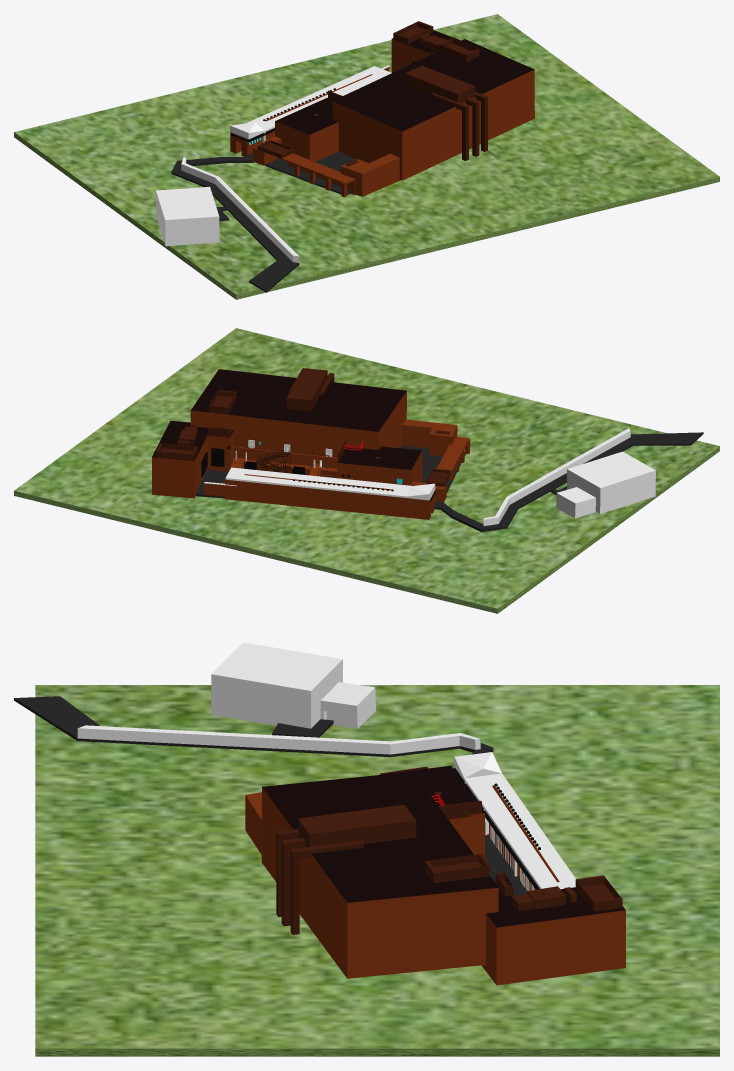
Rendered from Legorretafinal2.obj.
3 views of the same model, one above another, from view 1: azimuth 30°, elevation 25°; view 2: azimuth 150°, elevation 25°; view 3: azimuth 270°, elevation 25° (orthographic). The views are drawn at different scales.
Parts seen in each view (by area): view 1: Object.1; view 2: Object.1; view 3: Object.1, Object.4.
Boxes of the visible parts, <box> form: Object.1: <box>14,14,719,299</box>; Object.1: <box>14,328,719,613</box>; Object.1: <box>14,642,719,1056</box>; Object.4: <box>511,886,565,910</box>.
Bounding box in the file's own units: 22.1 × 2.96 × 18.01.
Materials: 14 (1 with a texture image).
